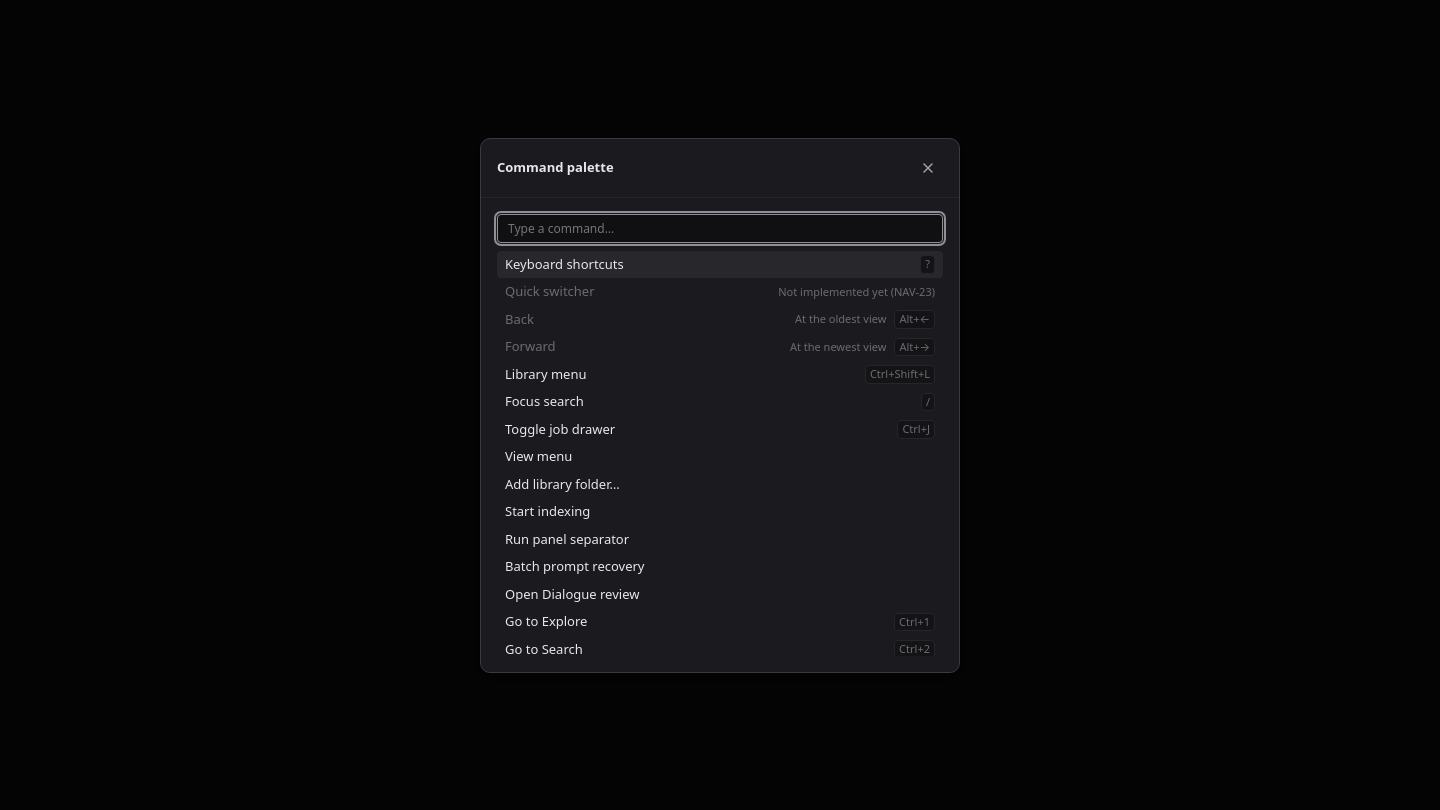
Test: CommandPalette (NAV-24) › offers a search row even when no command matches
Type "dragons" into the dropdown named "Command palette search" at (720,228), box [497,214,943,242]
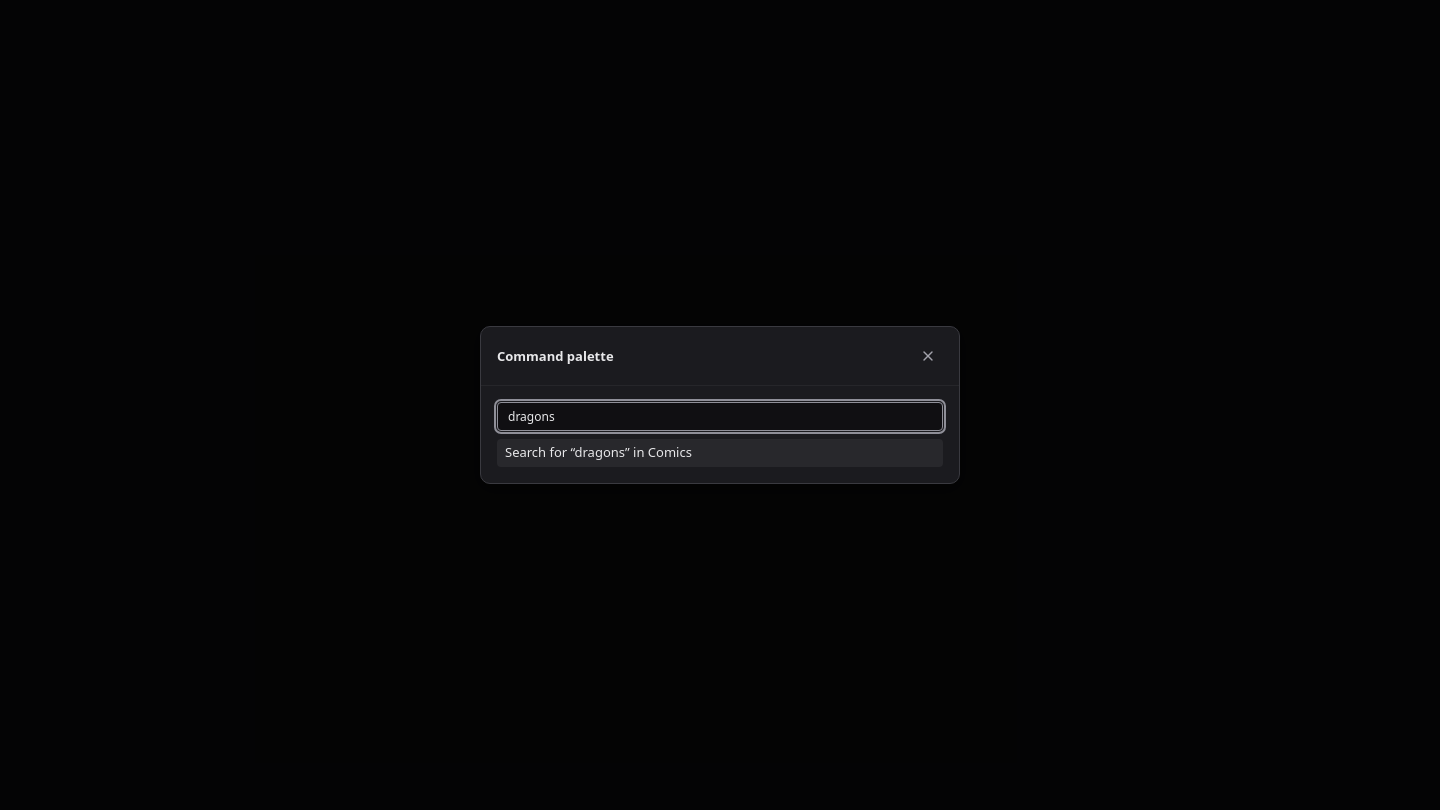
Expected: the number of options is 1, [497,439,943,467]
